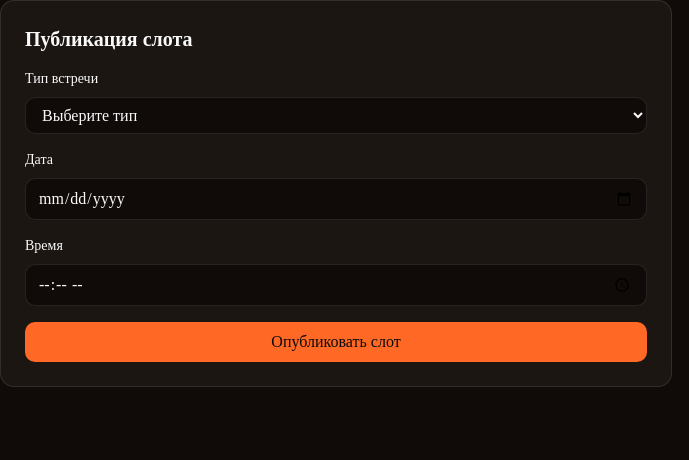
Test case: admin page publishes slots › shows a server rejection message on 400/404
The width and height of the screenshot is (689, 460).
Select "Созвон, 30 мин." in the dropdown labelled "Тип встречи" at (336, 116), box [25, 97, 647, 134]
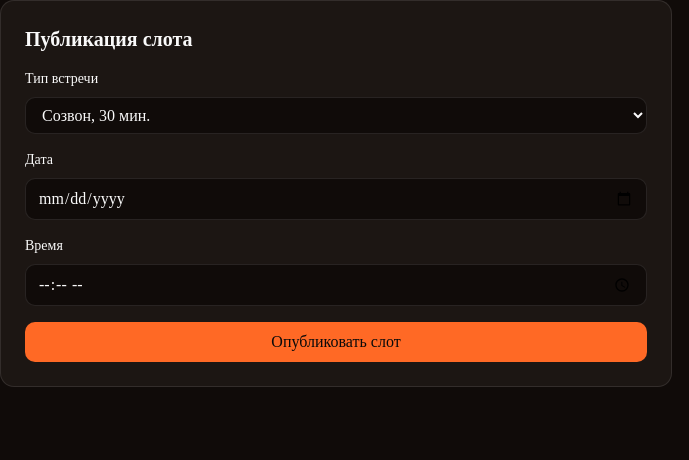
Type "2026-11-15" into the date field labelled "Дата" at (336, 199), box [25, 178, 647, 220]
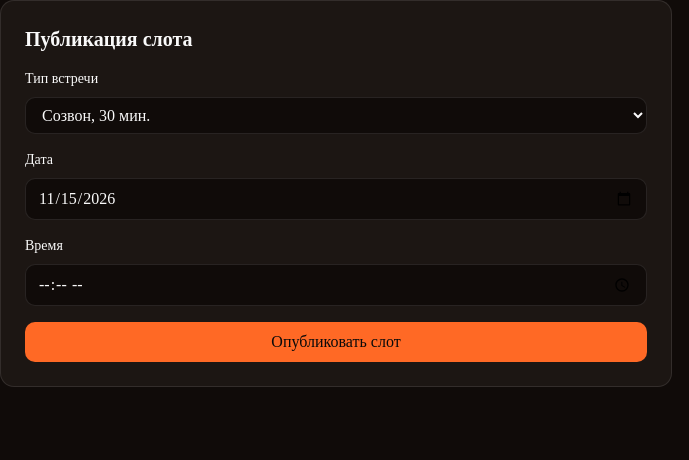
Type "10:00" into the time field labelled "Время" at (336, 285), box [25, 264, 647, 306]
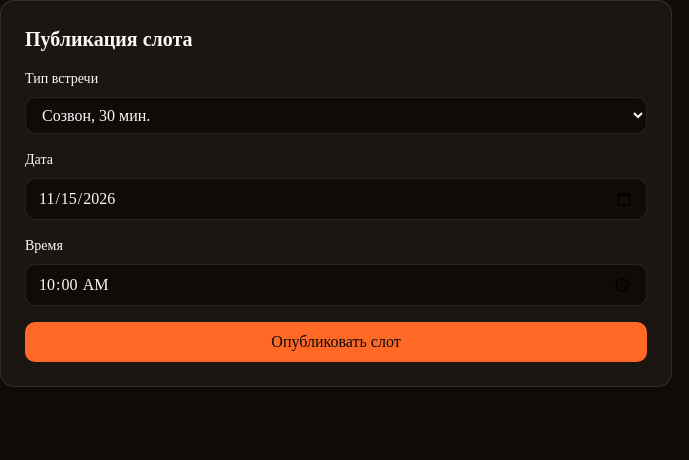
Click the button "Опубликовать слот" at (336, 342), box [25, 322, 647, 362]
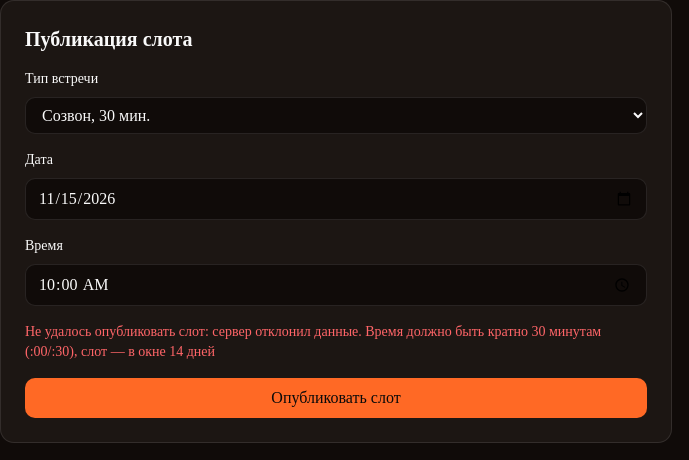
Expected: the message is shown, [25, 322, 647, 362]
Expected: the message shows "Не удалось опубликовать слот", [25, 324, 601, 359]
Expected: the message shows "30 минутам", [25, 324, 601, 359]
